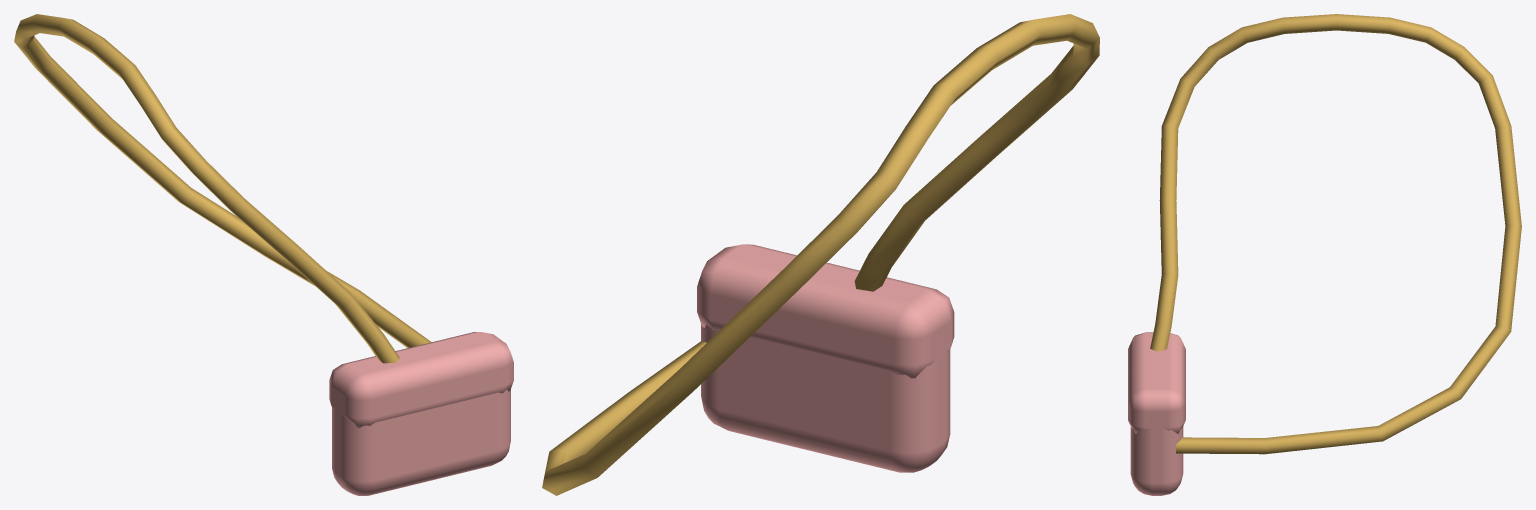
Rendered from faux_fur_bag.glb.
3 renders of one model, left to right at view 1: azimuth 30°, elevation 25°; view 2: azimuth 150°, elevation 25°; view 3: azimuth 270°, elevation 25°, orthographic. The views are drawn at different scales.
Parts seen in each view (by area): view 1: faux_fur_bag_Body; view 2: faux_fur_bag_Body; view 3: faux_fur_bag_Body.
Boxes of the visible parts, left/top/right/bottom form: faux_fur_bag_Body: left=14, top=14, right=513, bottom=495; faux_fur_bag_Body: left=542, top=14, right=1099, bottom=495; faux_fur_bag_Body: left=1128, top=14, right=1521, bottom=495.
Size of the model in its own units: 0.3581 by 0.4541 by 0.4496.
